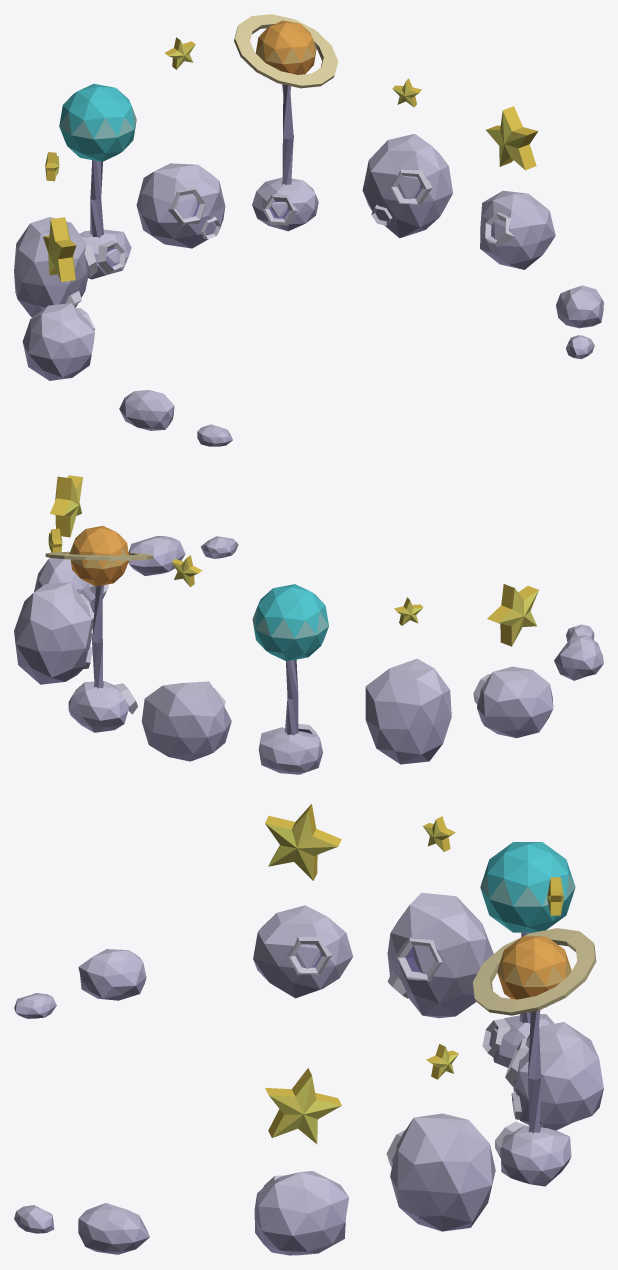
The model's file is habitat_theme_space.fbx.
The picture shows the model from 3 angles, top to bottom: view 1: azimuth 30°, elevation 25°; view 2: azimuth 150°, elevation 25°; view 3: azimuth 270°, elevation 25°; orthographic projection. The views are drawn at different scales.
Visible parts, largest first — view 1: habitat_theme_space; view 2: habitat_theme_space; view 3: habitat_theme_space.
Part boxes in pixels (box(x1,y1,x2,y2)): habitat_theme_space: box(14, 14, 603, 446); habitat_theme_space: box(14, 475, 603, 774); habitat_theme_space: box(14, 804, 603, 1255).
Bounding box in the file's own units: 7.16 × 2.65 × 5.81.
